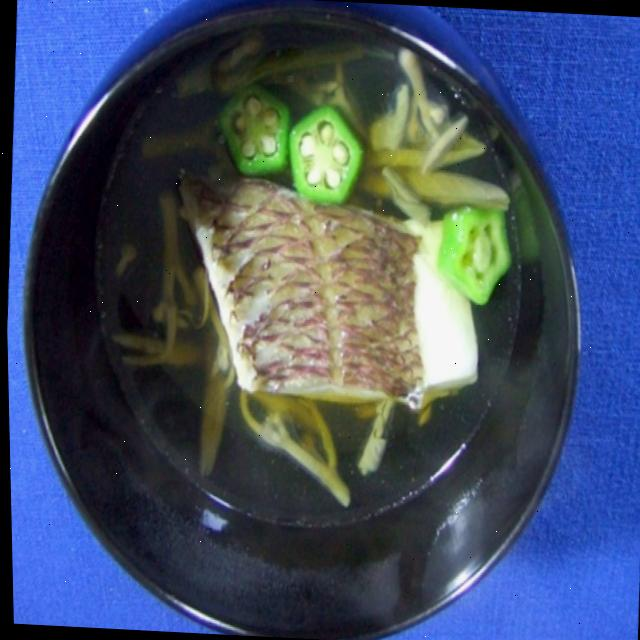汤锅炖物: (8, 0, 607, 640)
